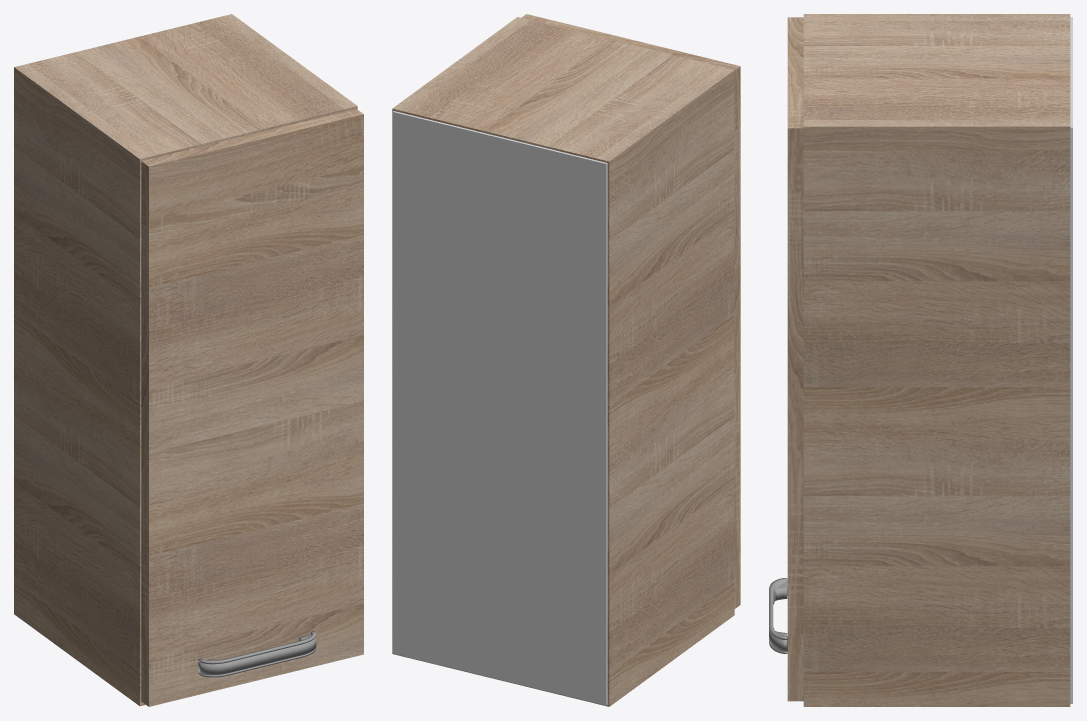
3 views of the same model, side by side, from view 1: azimuth 30°, elevation 25°; view 2: azimuth 150°, elevation 25°; view 3: azimuth 270°, elevation 25° (orthographic). The views are drawn at different scales.
Visible parts, largest first — view 1: s_f1a_72_30_ajto_1, s_f1a_72_30_korpusz, s_f1a_72_30_fogo_1; view 2: s_f1a_72_30_korpusz, s_f1a_72_30_ajto_1; view 3: s_f1a_72_30_korpusz, s_f1a_72_30_ajto_1, s_f1a_72_30_fogo_1.
Part boxes in pixels (left/top/right/bottom): s_f1a_72_30_ajto_1: left=141, top=109, right=363, bottom=706; s_f1a_72_30_korpusz: left=14, top=14, right=357, bottom=706; s_f1a_72_30_fogo_1: left=198, top=631, right=316, bottom=677; s_f1a_72_30_korpusz: left=392, top=17, right=734, bottom=706; s_f1a_72_30_ajto_1: left=521, top=14, right=740, bottom=608; s_f1a_72_30_korpusz: left=803, top=14, right=1072, bottom=706; s_f1a_72_30_ajto_1: left=787, top=17, right=803, bottom=701; s_f1a_72_30_fogo_1: left=769, top=578, right=787, bottom=653.
Size of the model in its own units: 0.3 by 0.72 by 0.3418.
Materials: 4 (2 with a texture image).
